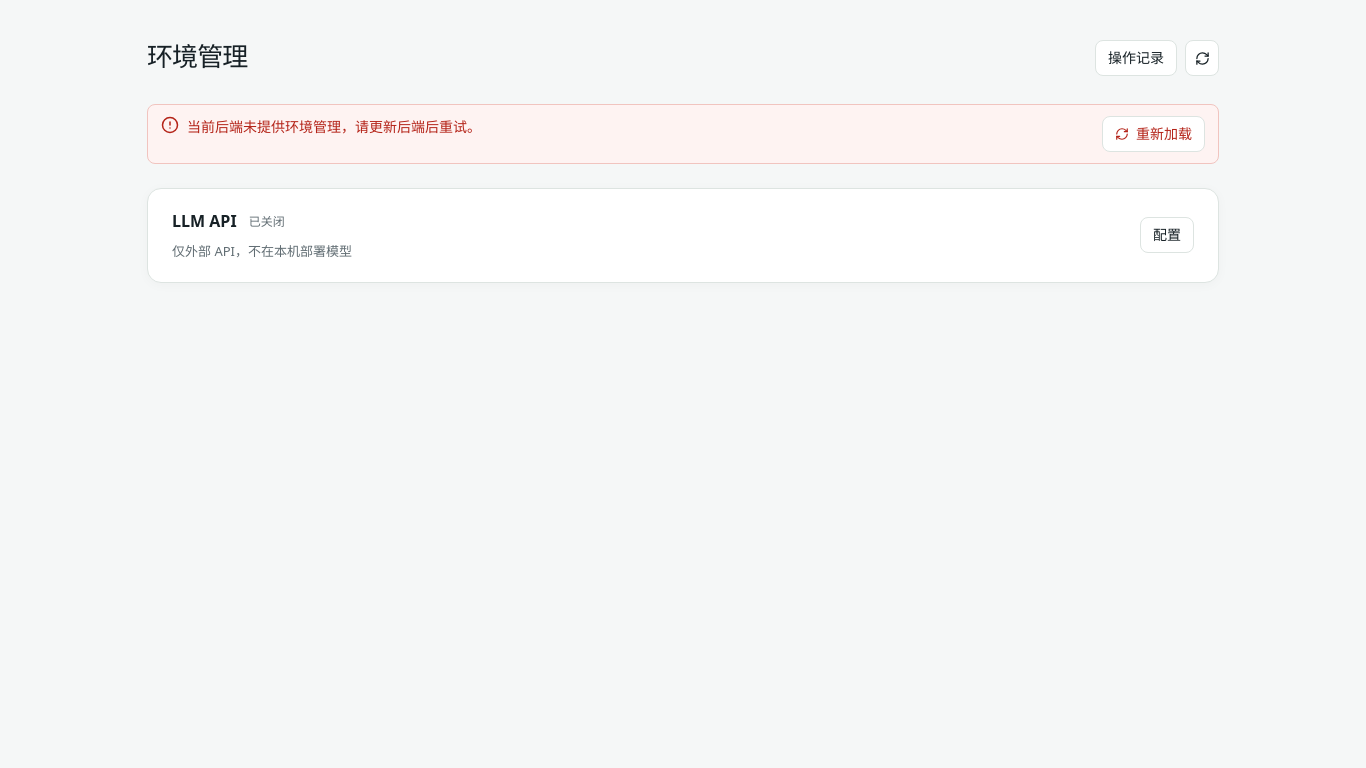
Test: minimal independent LLM API settings › renders the panel even when the environment catalog fails
Check: the text "当前后端未提供环境管理，请更新后端后重试。" is shown, box 187,117 -> 481,136
Check: the text named "LLM API 状态" reads "已关闭", box 249,213 -> 285,230
Click the button "配置". click: (1167, 235)
box: 1140,217 -> 1194,253
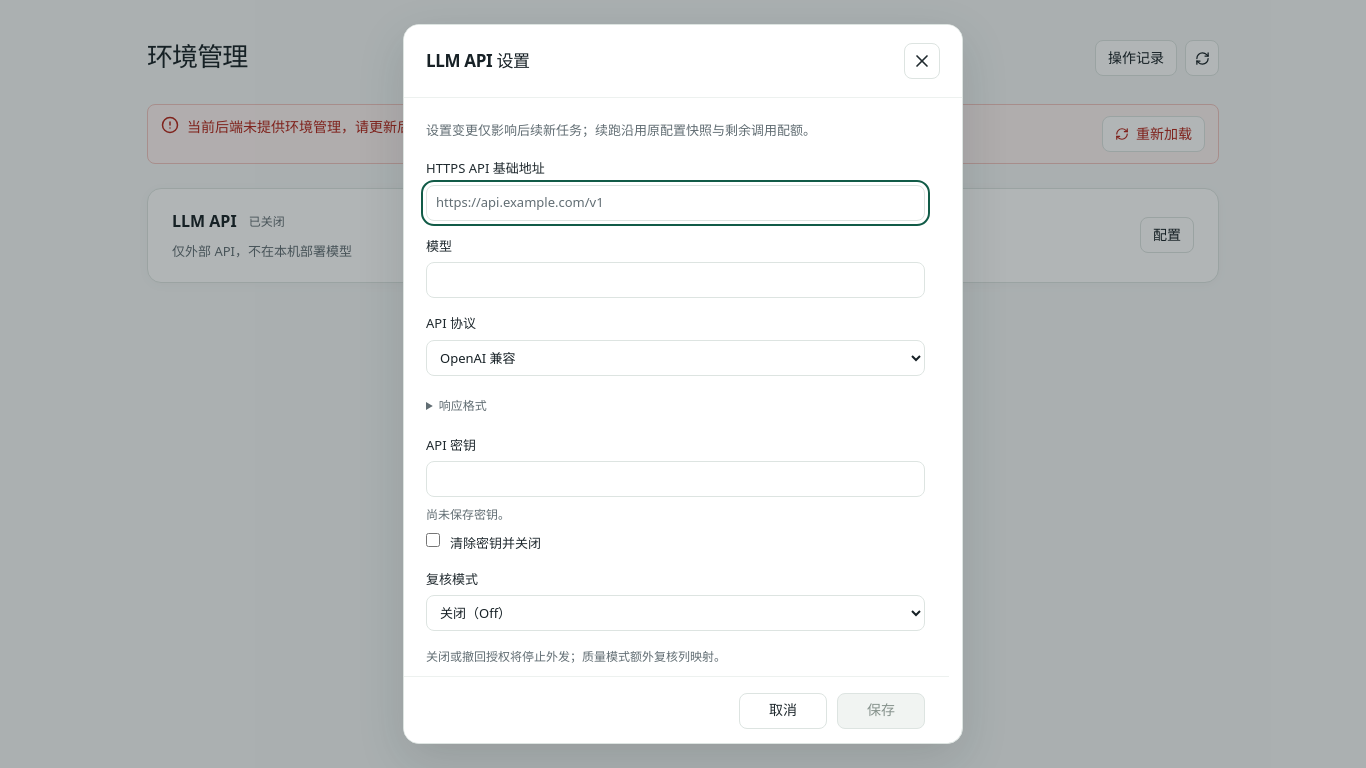
Check: the dialog "LLM API 设置" is shown, box 403,24 -> 963,744
